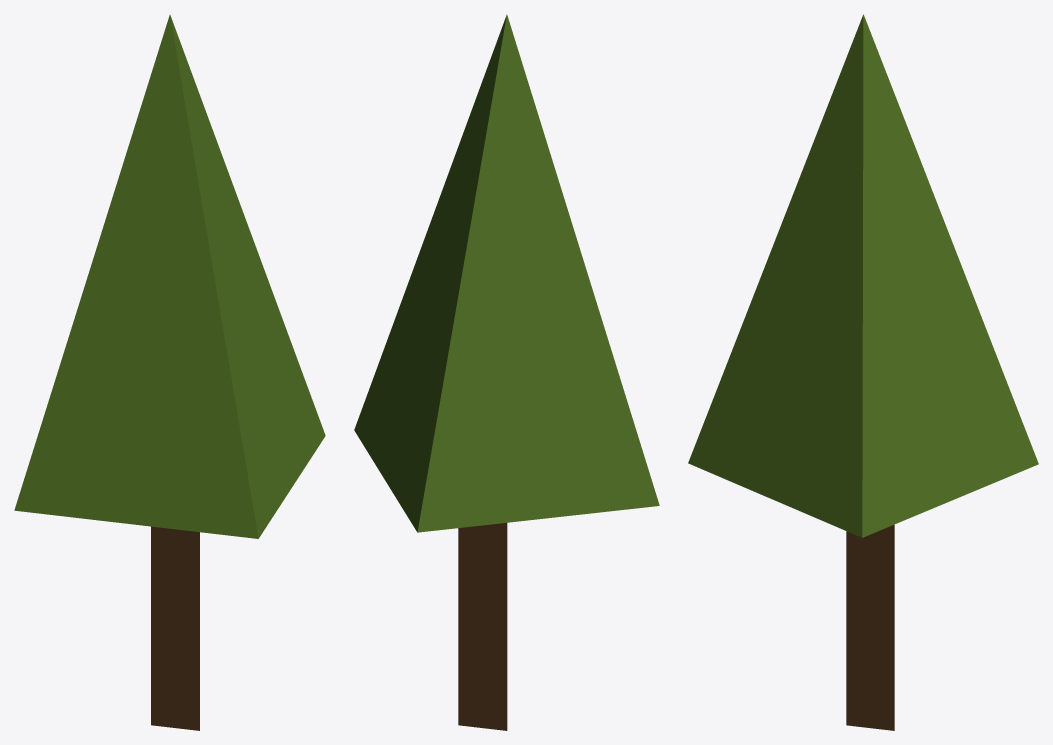
Rendered from treeeee.dae.
3 views of the same model, side by side, from view 1: azimuth 30°, elevation 25°; view 2: azimuth 150°, elevation 25°; view 3: azimuth 270°, elevation 25° (orthographic). The views are drawn at different scales.
Visible parts, largest first — view 1: tree.23, Cylinder; view 2: tree.23, Cylinder; view 3: tree.23, Cylinder.
Part boxes in pixels (box(x1,y1,x2,y2)): tree.23: box(14, 14, 325, 538); Cylinder: box(151, 526, 199, 730); tree.23: box(354, 14, 659, 532); Cylinder: box(458, 523, 507, 730); tree.23: box(688, 14, 1038, 537); Cylinder: box(846, 524, 894, 730).
Bounding box in the file's own units: 158 × 348 × 158.
